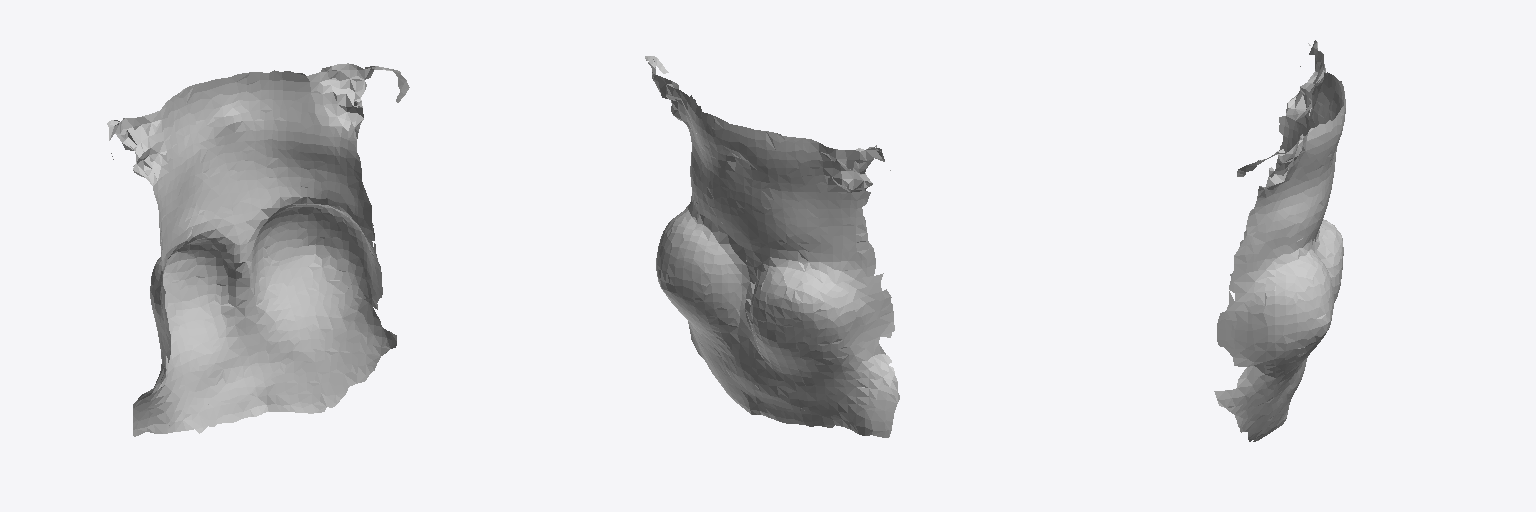
File: reduced_mesh.obj
3 renders of one model, left to right at view 1: azimuth 30°, elevation 25°; view 2: azimuth 150°, elevation 25°; view 3: azimuth 270°, elevation 25°, orthographic.
Size of the model in its own units: 1.69 by 1.96 by 0.7209.